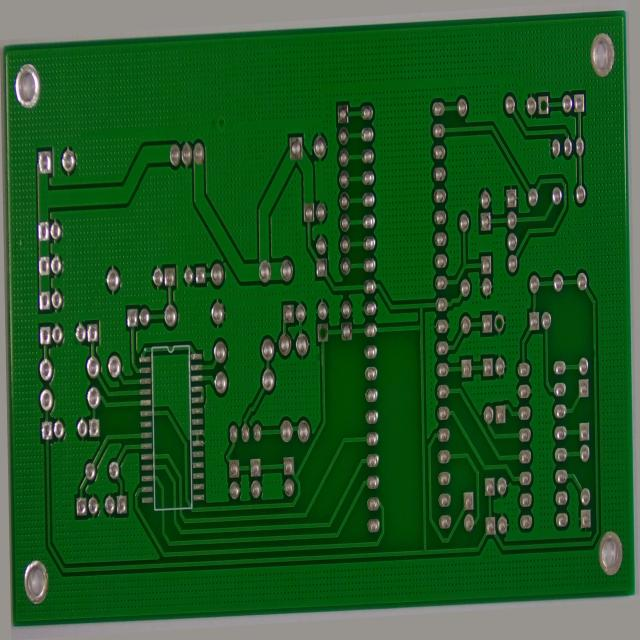missing_hole: (545, 93, 559, 120), (317, 323, 329, 345), (498, 323, 508, 347)
